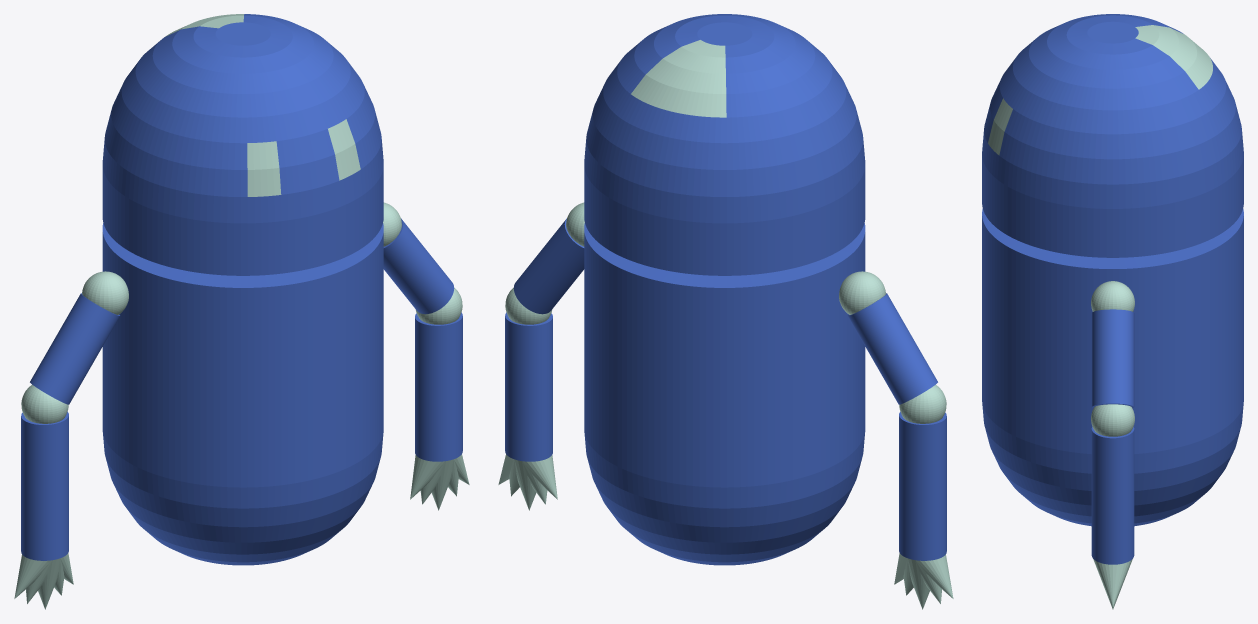
File: robot.fbx
3 renders of one model, left to right at view 1: azimuth 30°, elevation 25°; view 2: azimuth 150°, elevation 25°; view 3: azimuth 270°, elevation 25°, orthographic. The views are drawn at different scales.
Parts seen in each view (by area): view 1: Конус.005; view 2: Конус.005; view 3: Конус.005.
Boxes of the visible parts, x1,y1,x2,y2 form: Конус.005: [14, 14, 469, 609]; Конус.005: [498, 14, 953, 609]; Конус.005: [982, 14, 1243, 609].
Size of the model in its own units: 291 by 322 by 155.
